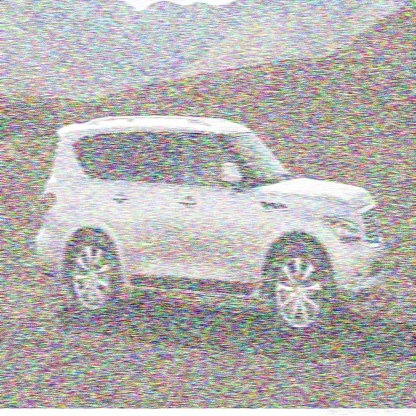Vehicle: (34, 113, 390, 346)
